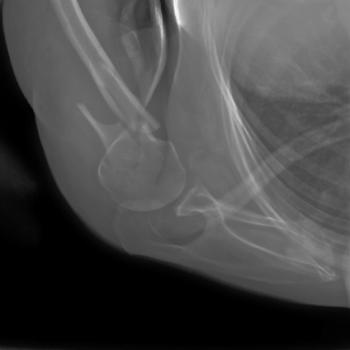Fracture: (74, 94, 170, 148)
